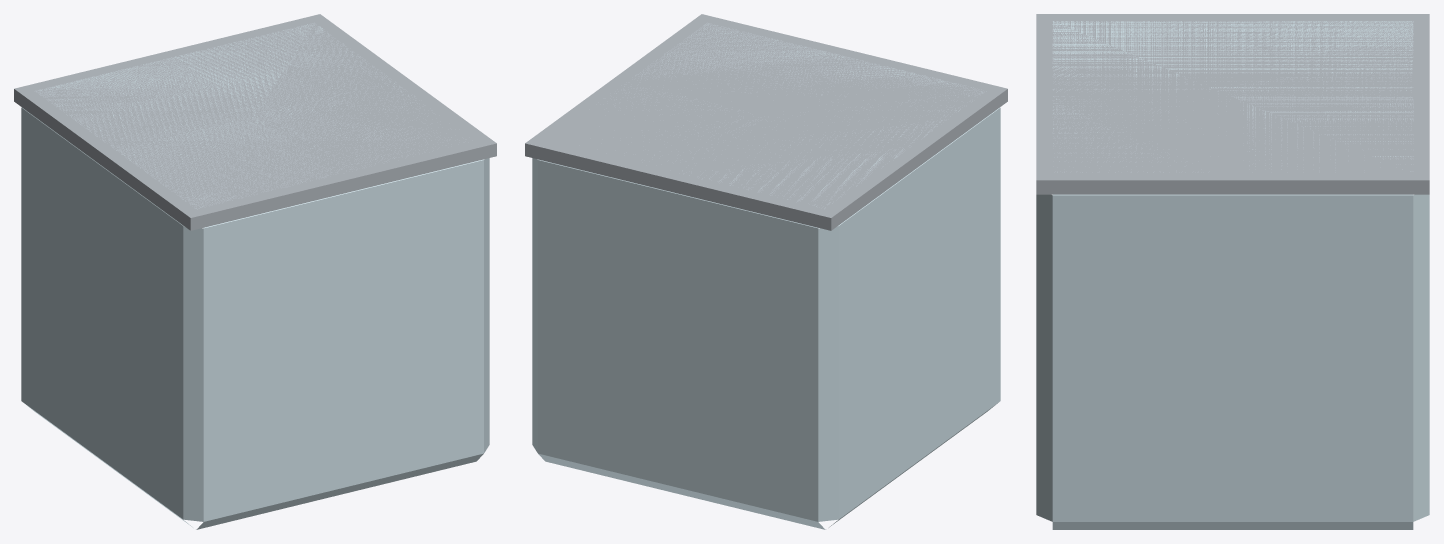
File: glass_container.glb
The picture shows the model from 3 angles, left to right: view 1: azimuth 30°, elevation 25°; view 2: azimuth 150°, elevation 25°; view 3: azimuth 270°, elevation 25°; orthographic projection. The views are drawn at different scales.
Visible parts, largest first — view 1: GlassShell, HardwareTrim; view 2: GlassShell, HardwareTrim; view 3: GlassShell, HardwareTrim.
Part boxes in pixels (left/top/right/bottom): GlassShell: left=21, top=23, right=489, bottom=529; HardwareTrim: left=14, top=14, right=496, bottom=230; GlassShell: left=532, top=23, right=1000, bottom=529; HardwareTrim: left=525, top=14, right=1007, bottom=230; GlassShell: left=1036, top=21, right=1429, bottom=529; HardwareTrim: left=1036, top=14, right=1429, bottom=194.
Size of the model in its own units: 1 by 1 by 1.
